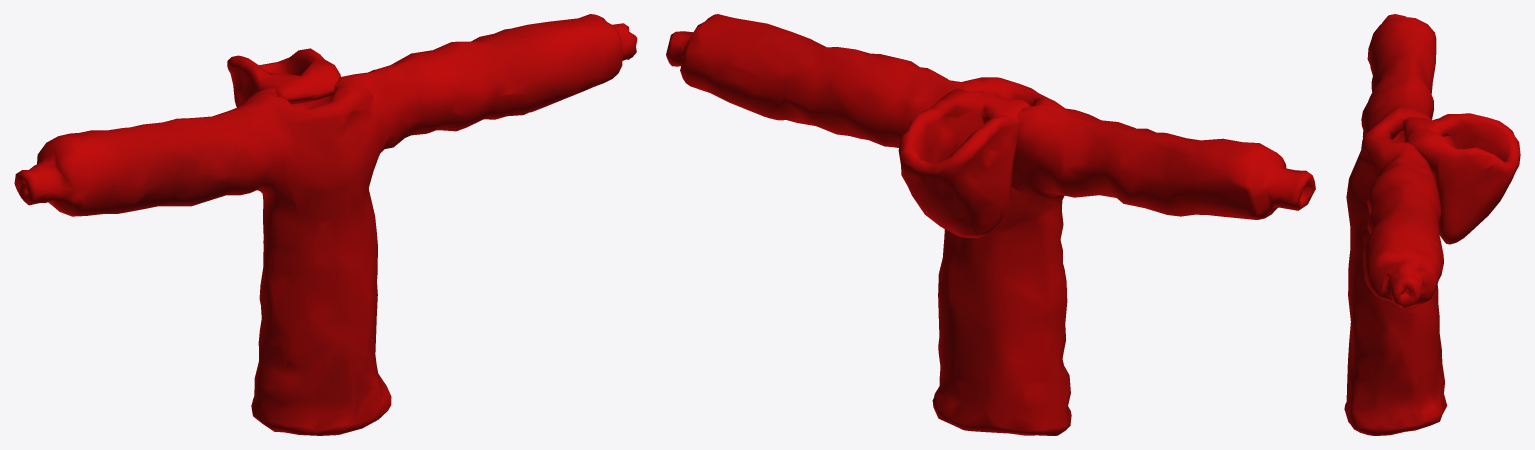
The model's file is hoodie down red.glb.
3 renders of one model, left to right at view 1: azimuth 30°, elevation 25°; view 2: azimuth 150°, elevation 25°; view 3: azimuth 270°, elevation 25°, orthographic. The views are drawn at different scales.
Visible parts, largest first — view 1: shirt_hoodie_down_red.001; view 2: shirt_hoodie_down_red.001; view 3: shirt_hoodie_down_red.001.
Boxes of the visible parts, left/top/right/bottom form: shirt_hoodie_down_red.001: left=14, top=14, right=637, bottom=435; shirt_hoodie_down_red.001: left=666, top=14, right=1315, bottom=435; shirt_hoodie_down_red.001: left=1344, top=14, right=1520, bottom=435.
Bounding box in the file's own units: 0.7054 × 0.3674 × 0.1977.
2 materials, 2 textured.
